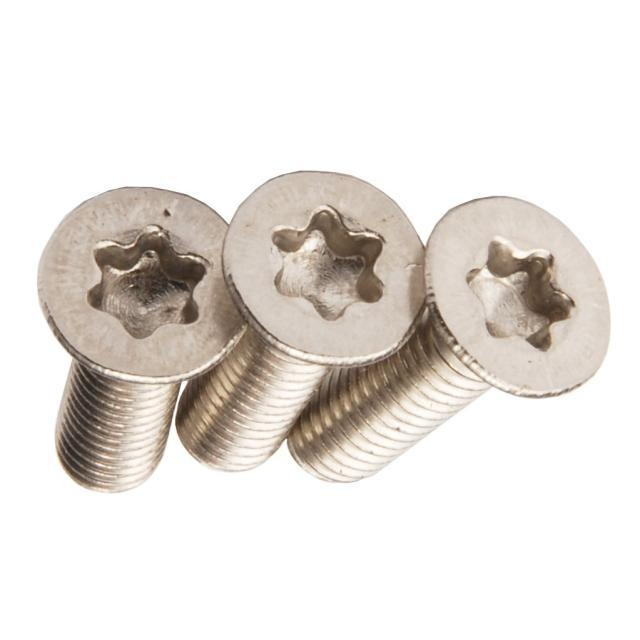torx: (86, 221, 214, 340), (268, 203, 388, 323), (467, 234, 578, 351)
